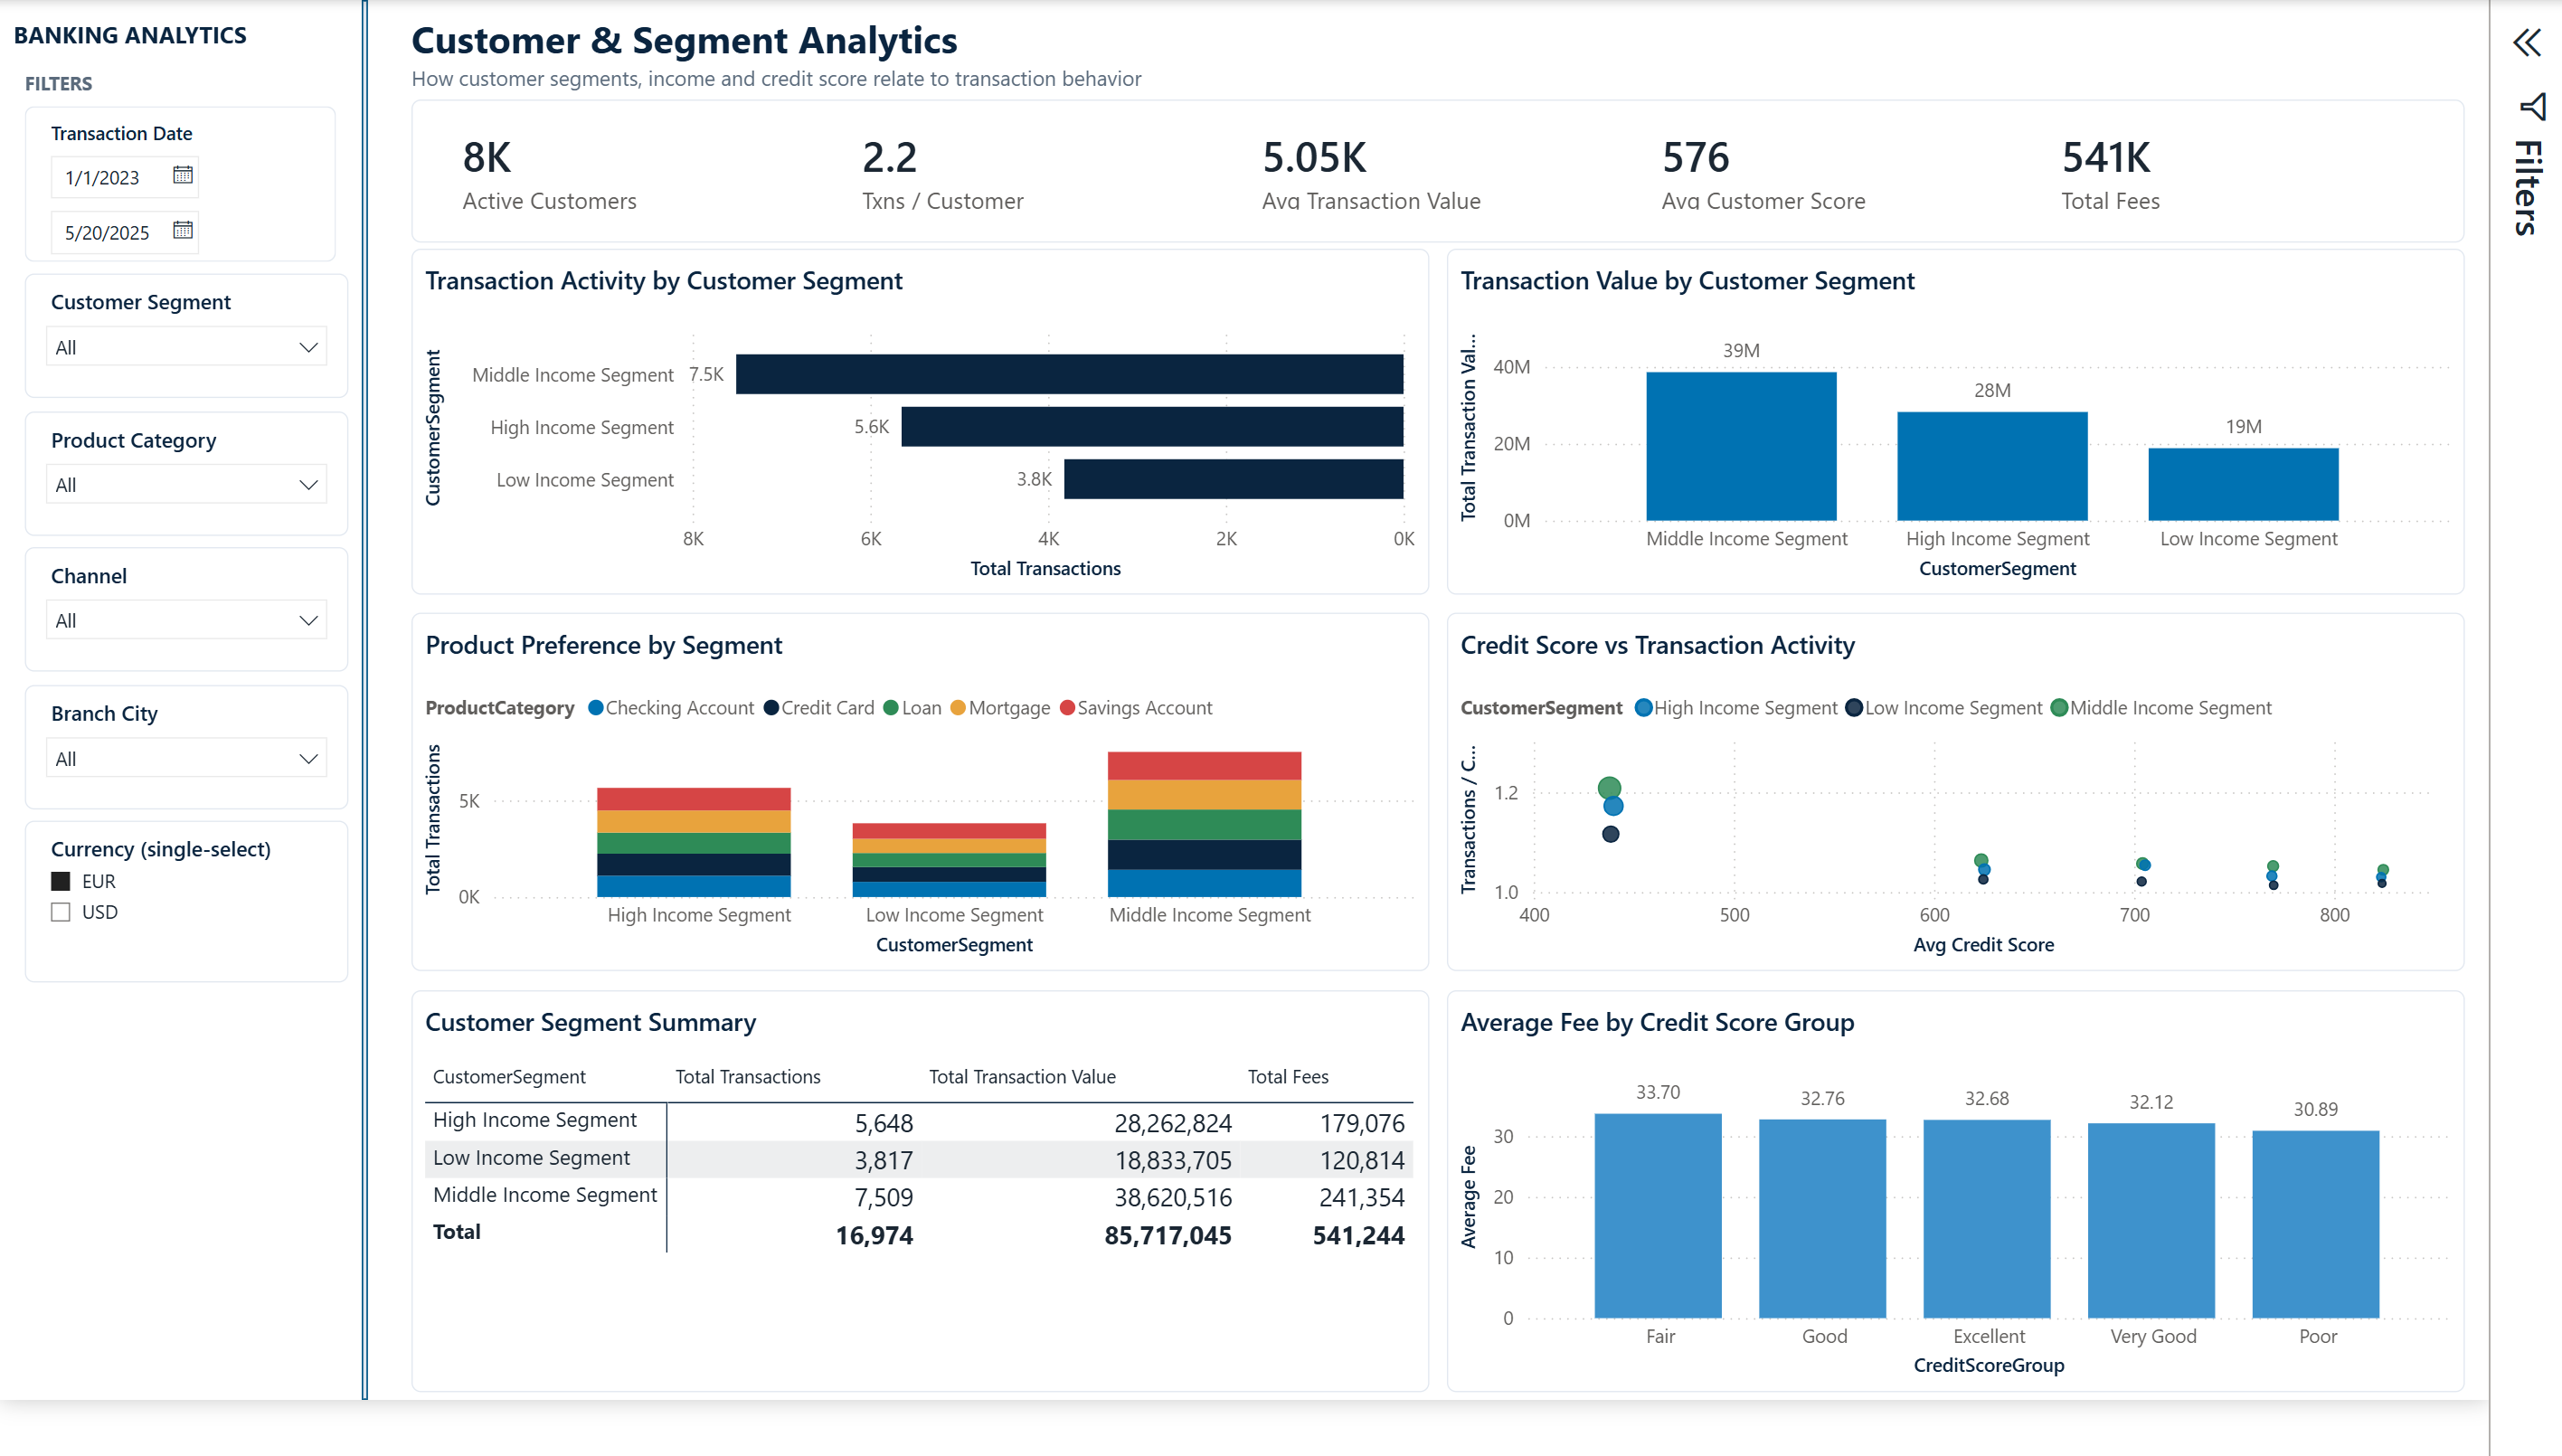

This screenshot's page, from the dashboard's own definition file:
{"tool":"powerbi","page":{"name":"Customer & Segment Analytics","canvas":[1600,900],"ordinal":1},"visuals":[{"type":"shape","box":[232,0,4,900],"z":999},{"type":"textbox","box":[8,12,224,28],"z":1000},{"type":"textbox","box":[16,44,208,20],"z":1001},{"type":"slicer","fields":{"Values":["DimDate.Date"]},"box":[16,68,200,100],"z":1002},{"type":"slicer","fields":{"Values":["FactTransaction.CustomerSegment"]},"box":[16,176,208,80],"z":1003},{"type":"slicer","fields":{"Values":["FactTransaction.ProductCategory"]},"box":[16,264,208,80],"z":1004},{"type":"slicer","fields":{"Values":["FactTransaction.Channel"]},"box":[16,352,208,80],"z":1005},{"type":"slicer","fields":{"Values":["FactTransaction.BranchCity"]},"box":[16,440,208,80],"z":1006},{"type":"slicer","fields":{"Values":["FactTransaction.Currency"]},"box":[16,528,208,104],"z":1007},{"type":"textbox","box":[264,8,1320,52],"z":1010},{"type":"cardVisual","fields":{"Data":["FactTransaction.Active Customers","FactTransaction.Transactions per Customer","FactTransaction.Average Transaction Value","FactTransaction.Average Customer Score","FactTransaction.Total Fees"]},"box":[264,64,1320,92],"z":1020},{"type":"clusteredBarChart","title":"Transaction Activity by Customer Segment","fields":{"Category":["FactTransaction.CustomerSegment"],"Y":["FactTransaction.Total Transactions"]},"box":[264,160,654,222],"z":1030},{"type":"clusteredColumnChart","title":"Transaction Value by Customer Segment","fields":{"Category":["FactTransaction.CustomerSegment"],"Y":["FactTransaction.Total Transaction Value"]},"box":[930,160,654,222],"z":1031},{"type":"columnChart","title":"Product Preference by Segment","fields":{"Category":["FactTransaction.CustomerSegment"],"Series":["FactTransaction.ProductCategory"],"Y":["FactTransaction.Total Transactions"]},"box":[264,394,654,230],"z":1032},{"type":"scatterChart","title":"Credit Score vs Transaction Activity","fields":{"Category":["FactTransaction.CreditScoreGroup"],"Series":["FactTransaction.CustomerSegment"],"Size":["FactTransaction.Total Transaction Value"],"X":["Avg(FactTransaction.CustomerScore)"],"Y":["FactTransaction.Transactions per Customer"]},"box":[930,394,654,230],"z":1033},{"type":"pivotTable","title":"Customer Segment Summary","fields":{"Rows":["FactTransaction.CustomerSegment"],"Values":["FactTransaction.Total Transactions","FactTransaction.Total Transaction Value","FactTransaction.Total Fees"]},"box":[264,636,654,258],"z":1034},{"type":"clusteredColumnChart","title":"Average Fee by Credit Score Group","fields":{"Category":["FactTransaction.CreditScoreGroup"],"Y":["FactTransaction.Average Fee"]},"box":[930,636,654,258],"z":1035}]}

Visuals, with their boxes on the page's 1600x900 design canvas (x1, y1, x2, y2). These are canvas units, not pixel positions in the 2562x1456 screenshot, which may show the page scaled, cropped or inside an application window:
shape: locate(232, 0, 236, 900)
textbox: locate(8, 12, 232, 40)
textbox: locate(16, 44, 224, 64)
slicer - DimDate.Date: locate(16, 68, 216, 168)
slicer - FactTransaction.CustomerSegment: locate(16, 176, 224, 256)
slicer - FactTransaction.ProductCategory: locate(16, 264, 224, 344)
slicer - FactTransaction.Channel: locate(16, 352, 224, 432)
slicer - FactTransaction.BranchCity: locate(16, 440, 224, 520)
slicer - FactTransaction.Currency: locate(16, 528, 224, 632)
textbox: locate(264, 8, 1584, 60)
cardVisual - FactTransaction.Active Customers x FactTransaction.Transactions per Customer: locate(264, 64, 1584, 156)
"Transaction Activity by Customer Segment" clusteredBarChart: locate(264, 160, 918, 382)
"Transaction Value by Customer Segment" clusteredColumnChart: locate(930, 160, 1584, 382)
"Product Preference by Segment" columnChart: locate(264, 394, 918, 624)
"Credit Score vs Transaction Activity" scatterChart: locate(930, 394, 1584, 624)
"Customer Segment Summary" pivotTable: locate(264, 636, 918, 894)
"Average Fee by Credit Score Group" clusteredColumnChart: locate(930, 636, 1584, 894)
